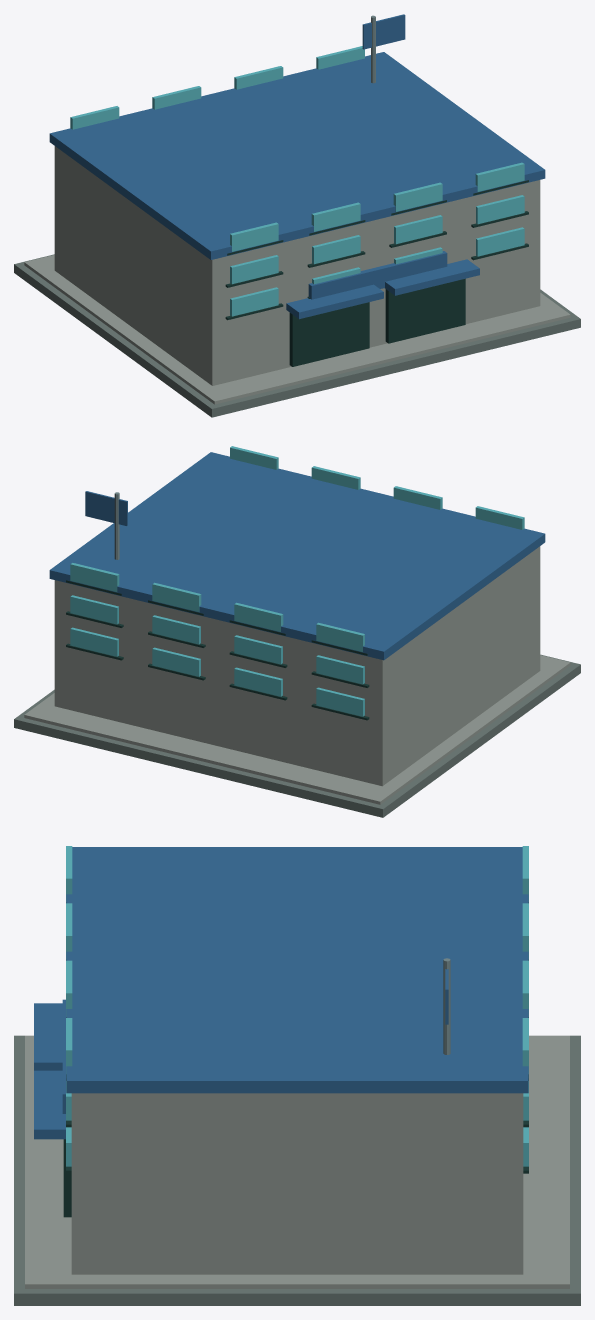
File: police_lv2.glb
The picture shows the model from 3 angles, top to bottom: view 1: azimuth 30°, elevation 25°; view 2: azimuth 150°, elevation 25°; view 3: azimuth 270°, elevation 25°; orthographic projection. The views are drawn at different scales.
Visible parts, largest first — view 1: rough, glossy; view 2: rough, glossy; view 3: rough, glossy, metallic.
Part boxes in pixels (x1=…): rough: x1=14, y1=14, x2=580, y2=417; glossy: x1=70, y1=46, x2=524, y2=316; rough: x1=14, y1=452, x2=580, y2=817; glossy: x1=70, y1=446, x2=524, y2=716; rough: x1=14, y1=847, x2=580, y2=1305; glossy: x1=66, y1=846, x2=528, y2=1166; metallic: x1=443, y1=958, x2=450, y2=1054.
Bounding box in the file's own units: 9.8 × 5.43 × 9.1.
